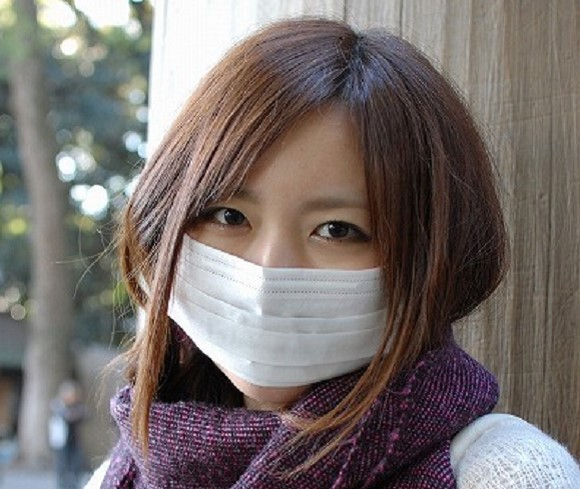face_with_mask: (139, 60, 428, 426)
